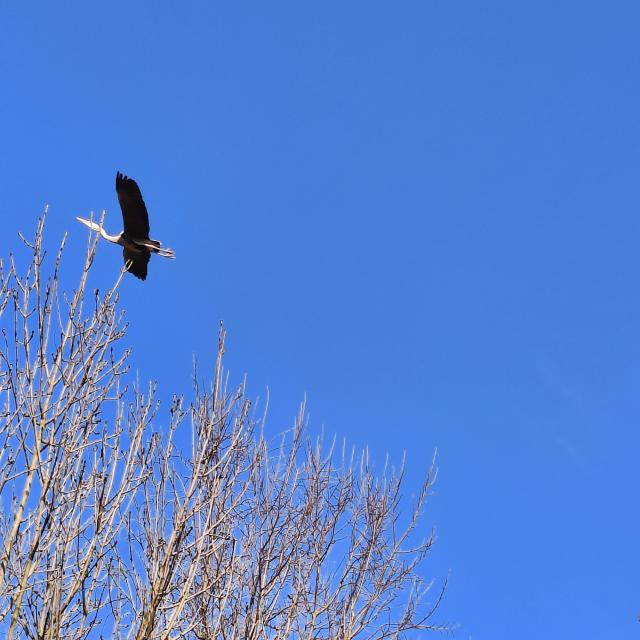bird: (77, 170, 176, 282)
